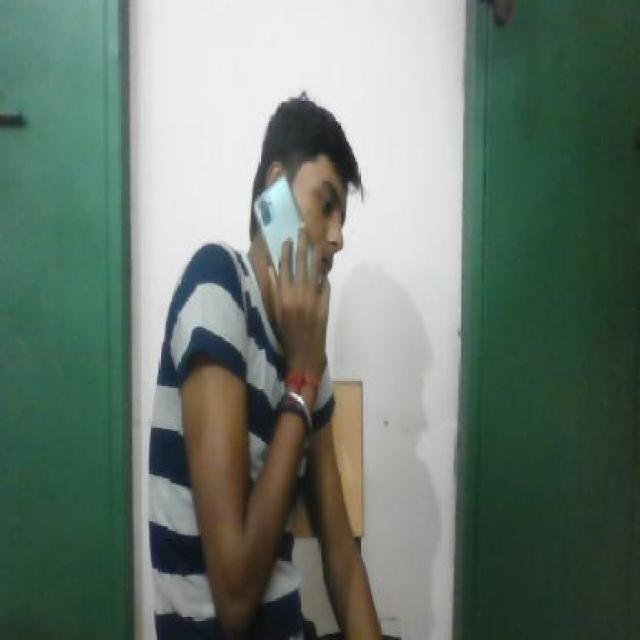phone: (250, 177, 321, 292)
